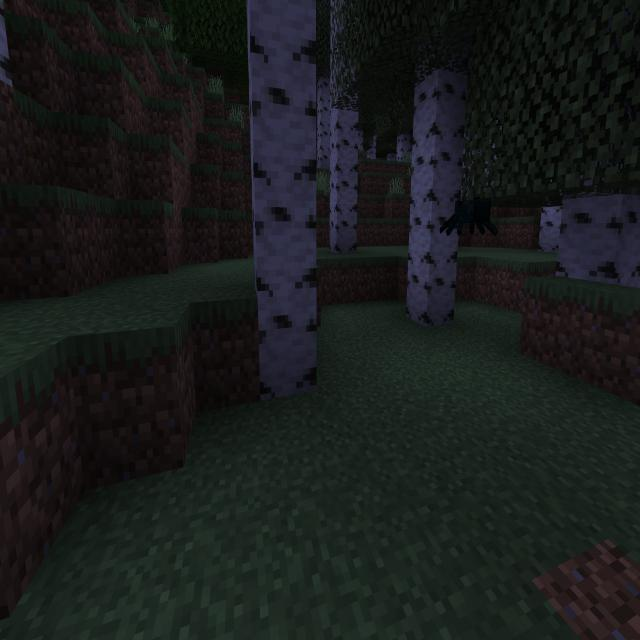Cave Spider: (438, 195, 500, 240)
